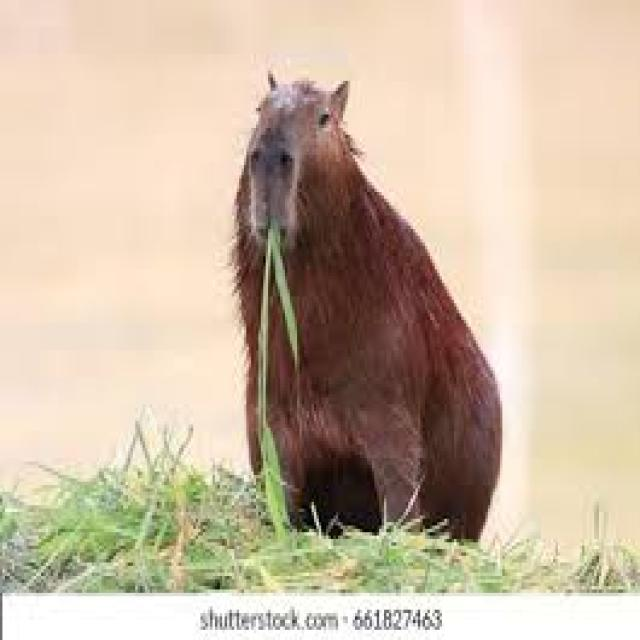capy: (231, 63, 503, 544)
